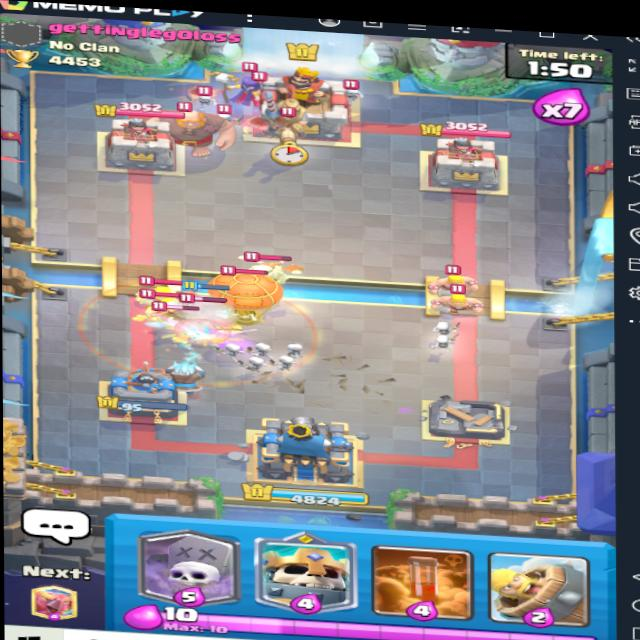Balloon: (213, 258, 286, 323)
Barbarian: (134, 284, 191, 313), (434, 283, 482, 317), (148, 298, 197, 330), (138, 275, 188, 302), (427, 263, 477, 289)
Giant: (144, 98, 242, 164)
Prince: (263, 89, 316, 149)
Skeleton: (188, 82, 217, 105), (209, 104, 241, 124), (342, 79, 366, 101)
Skeletondragon: (240, 257, 305, 294)
witch: (227, 65, 282, 110)
